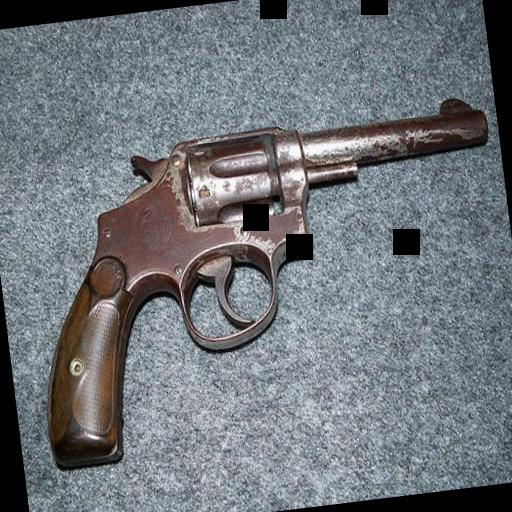Handgun: (10, 90, 512, 466)
